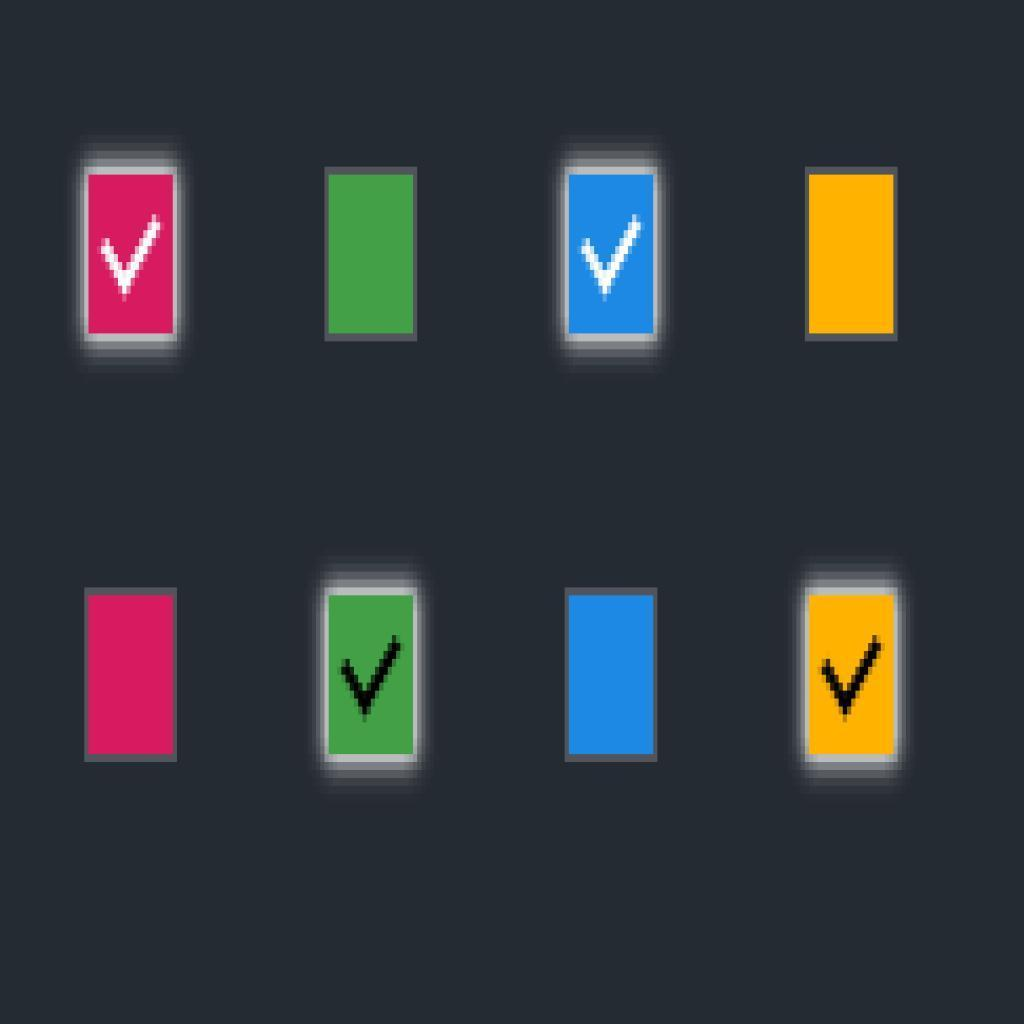checkbox: (798, 584, 905, 769), (324, 591, 427, 776), (561, 169, 659, 344), (322, 169, 421, 341), (563, 591, 661, 764), (87, 172, 176, 344), (809, 167, 899, 336), (84, 591, 175, 758)
